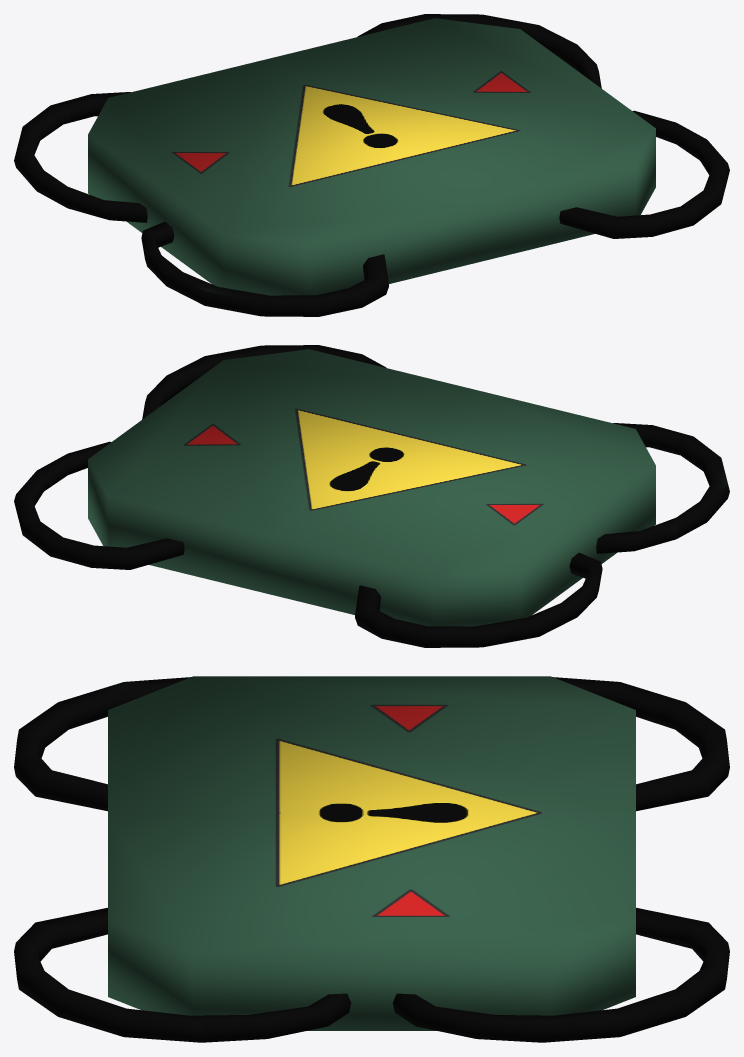
Rendered from Bomb.fbx.
3 renders of one model, top to bottom at view 1: azimuth 30°, elevation 25°; view 2: azimuth 150°, elevation 25°; view 3: azimuth 270°, elevation 25°, orthographic. The views are drawn at different scales.
Visible parts, largest first — view 1: Plane; view 2: Plane; view 3: Plane.
Boxes of the visible parts, left/top/right/bottom form: Plane: left=14, top=14, right=729, bottom=316; Plane: left=14, top=345, right=729, bottom=647; Plane: left=14, top=676, right=729, bottom=1042.
Bounding box in the file's own units: 208 × 21.45 × 180.
